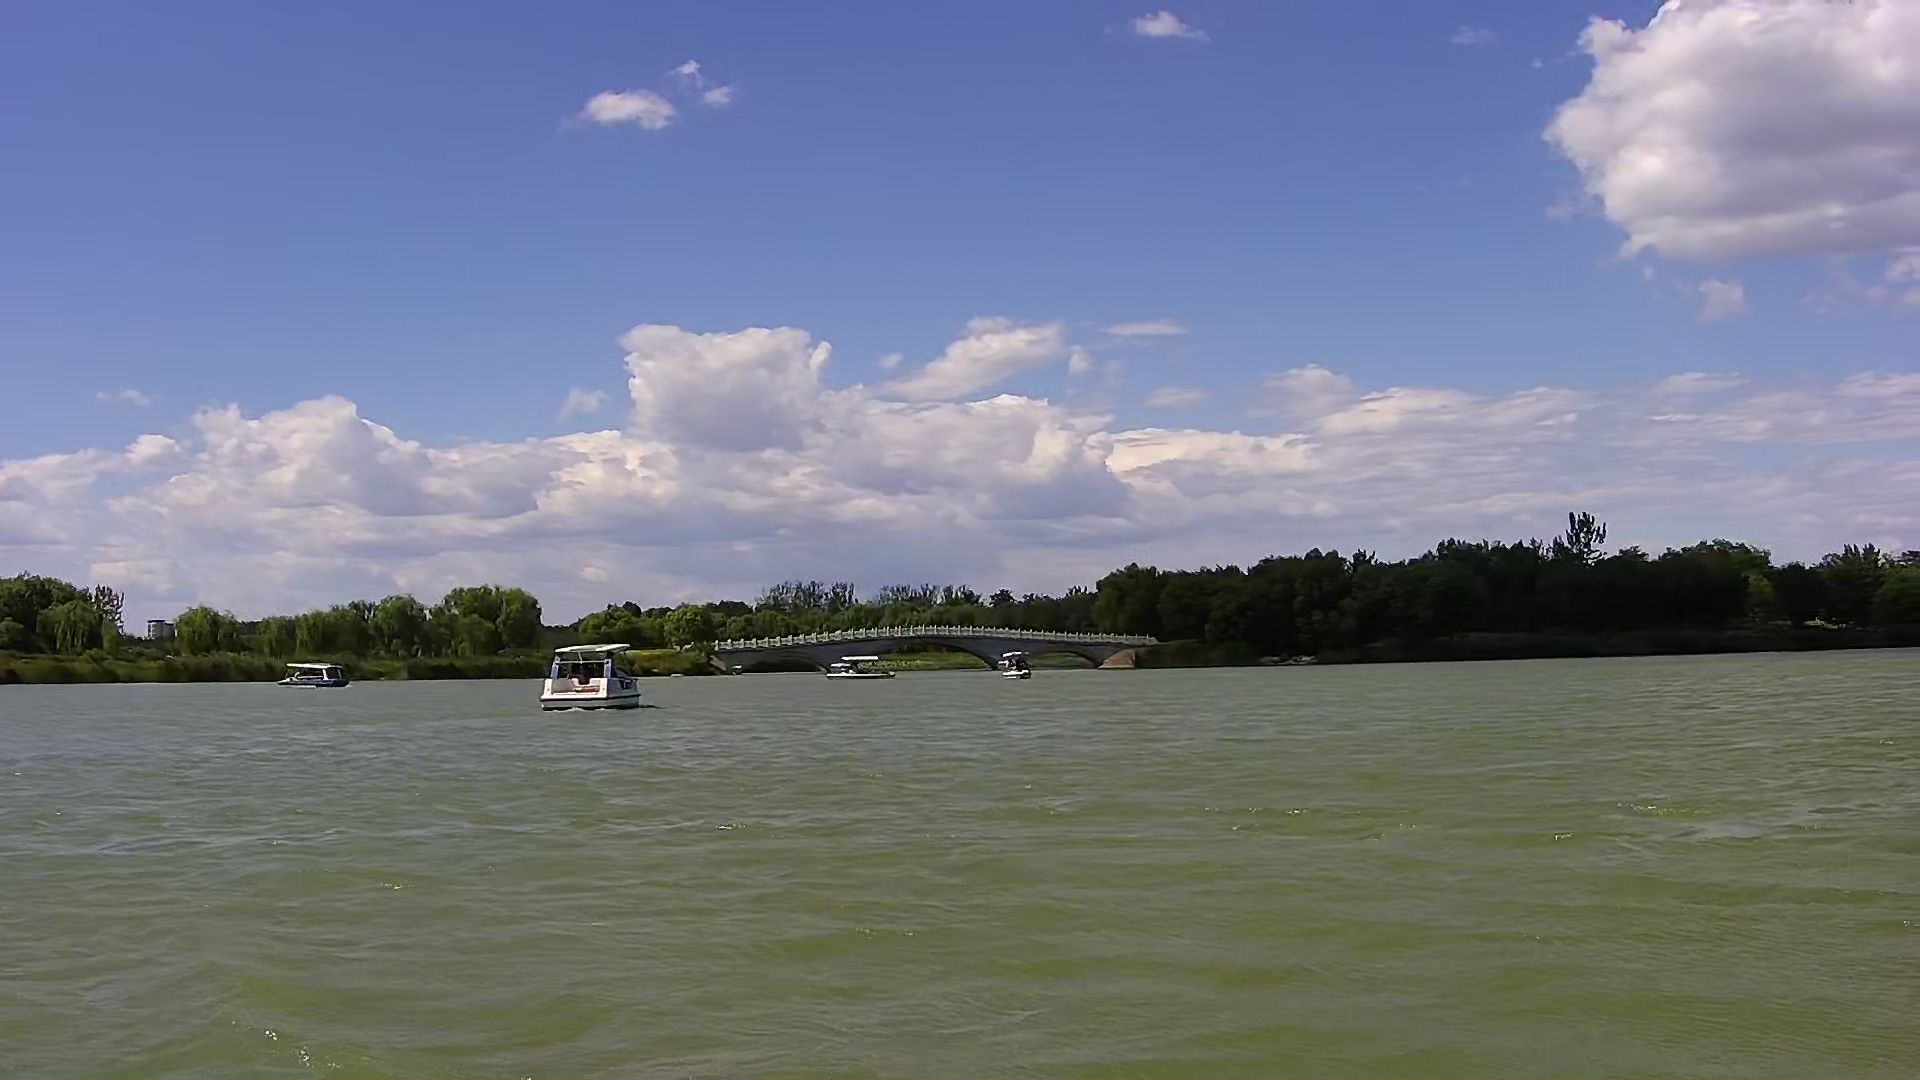boat: (534, 636, 651, 716), (274, 657, 356, 694), (825, 651, 899, 683), (996, 647, 1040, 684)
bridge: (698, 622, 1159, 675)
